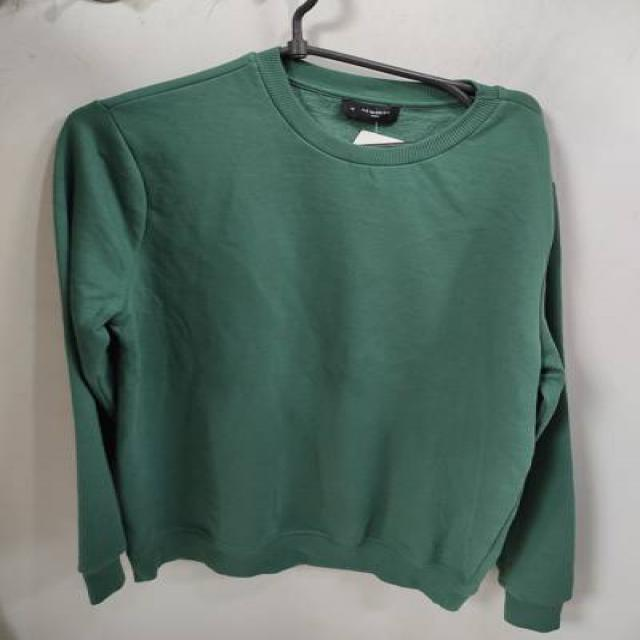Clothes -Biodegradable-: (46, 41, 571, 625)
